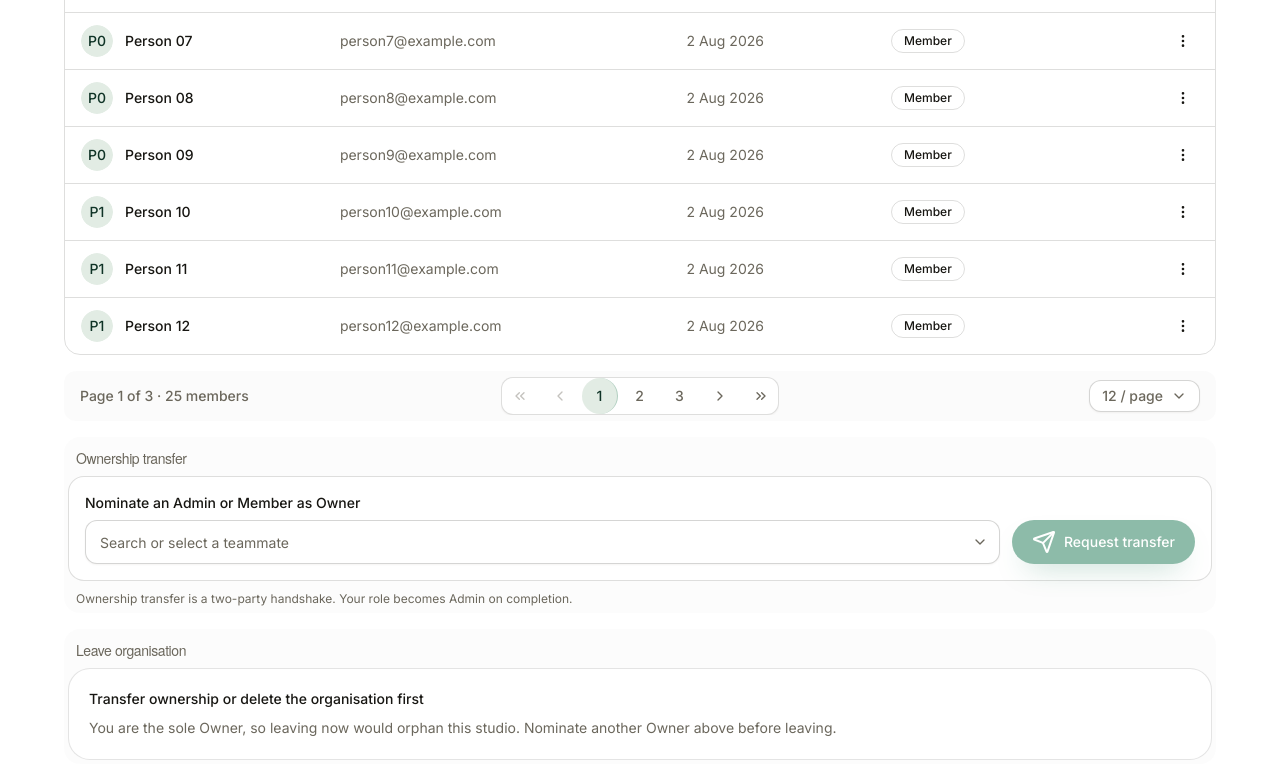
Test case: DesignerTermsRoles › paginates members and resets to the first page when searching
The width and height of the screenshot is (1280, 775).
(page scrolled)
Expected: the text "Person 13" is not shown
Click the button named "Next page".
click(720, 396)  # box [702,378,738,414]
(page scrolled)
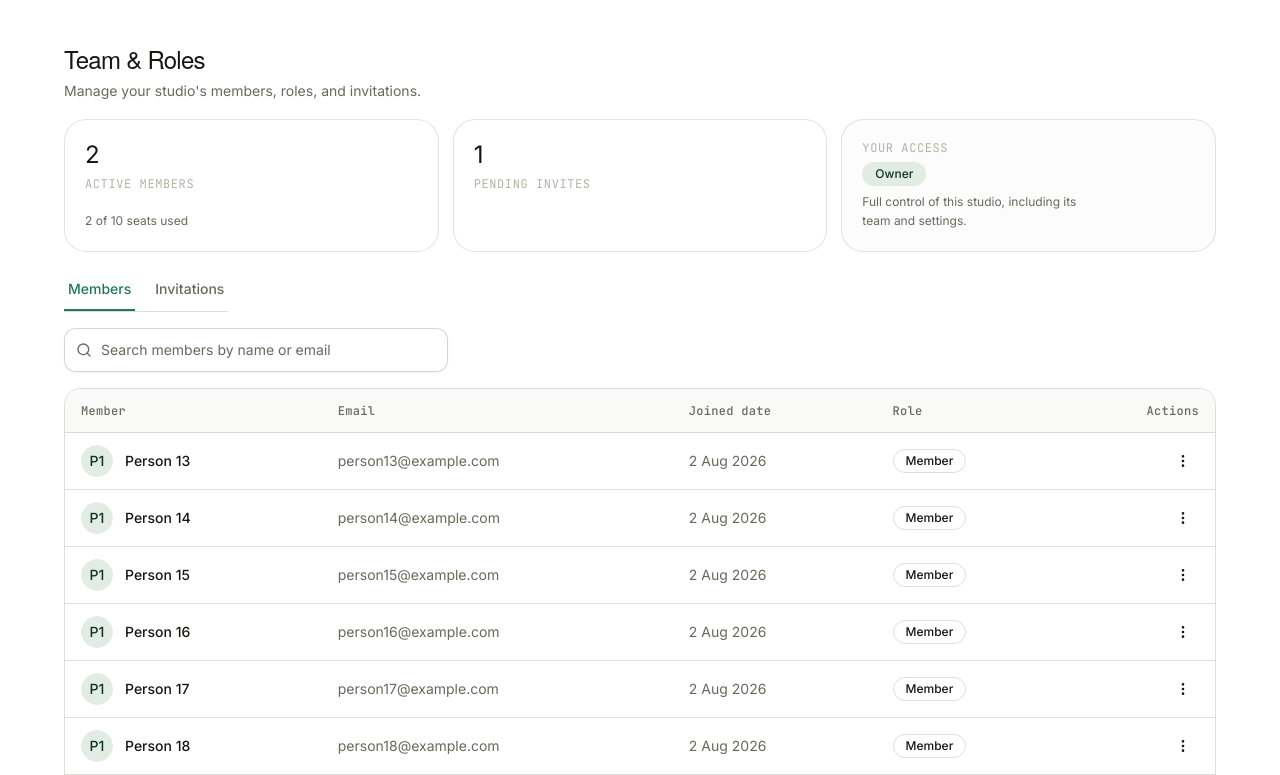
Expected: the text "Person 13" is shown, [125,451,190,471]
Type "person25@" into the search field labelled "Search members".
click(256, 350); type("person25@")  # box [64,328,448,372]
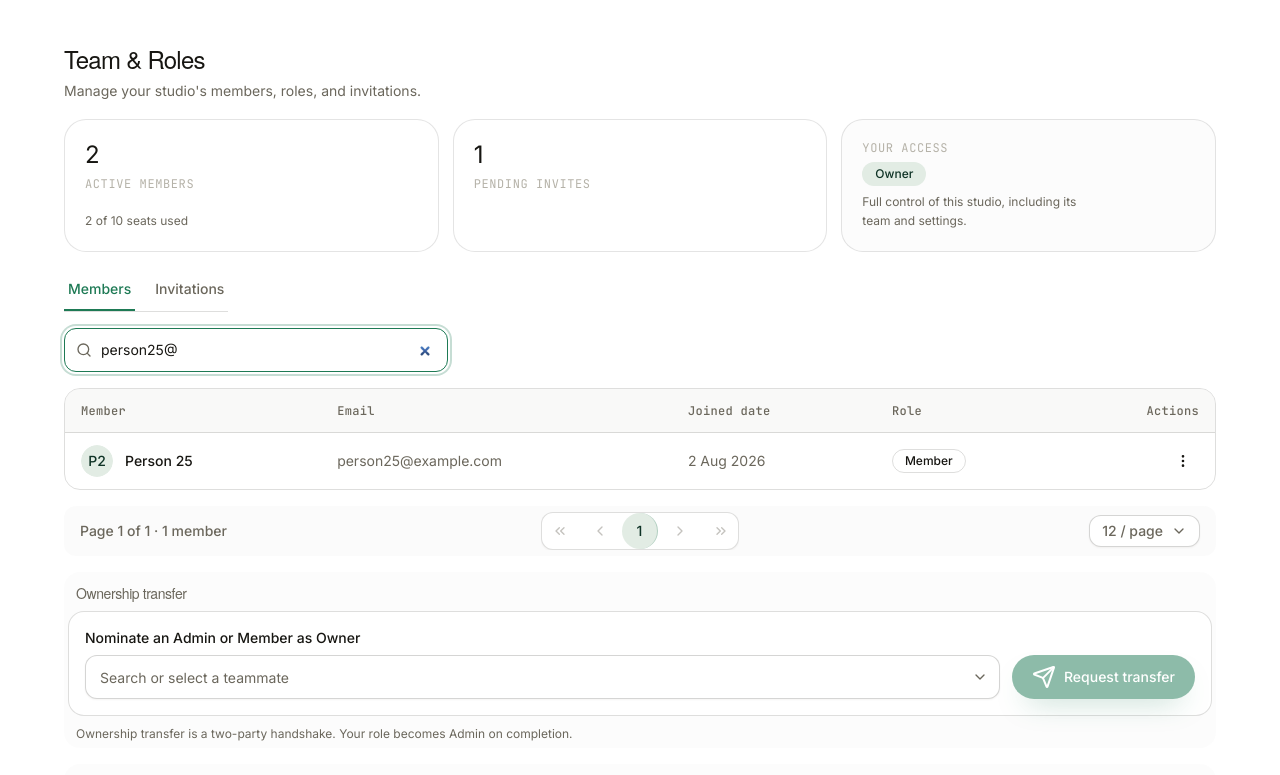
Expected: the text "Person 25" is shown, [125,451,193,471]
Expected: the text "Page 1 of 1 · 1 member" is shown, [80,521,227,541]
